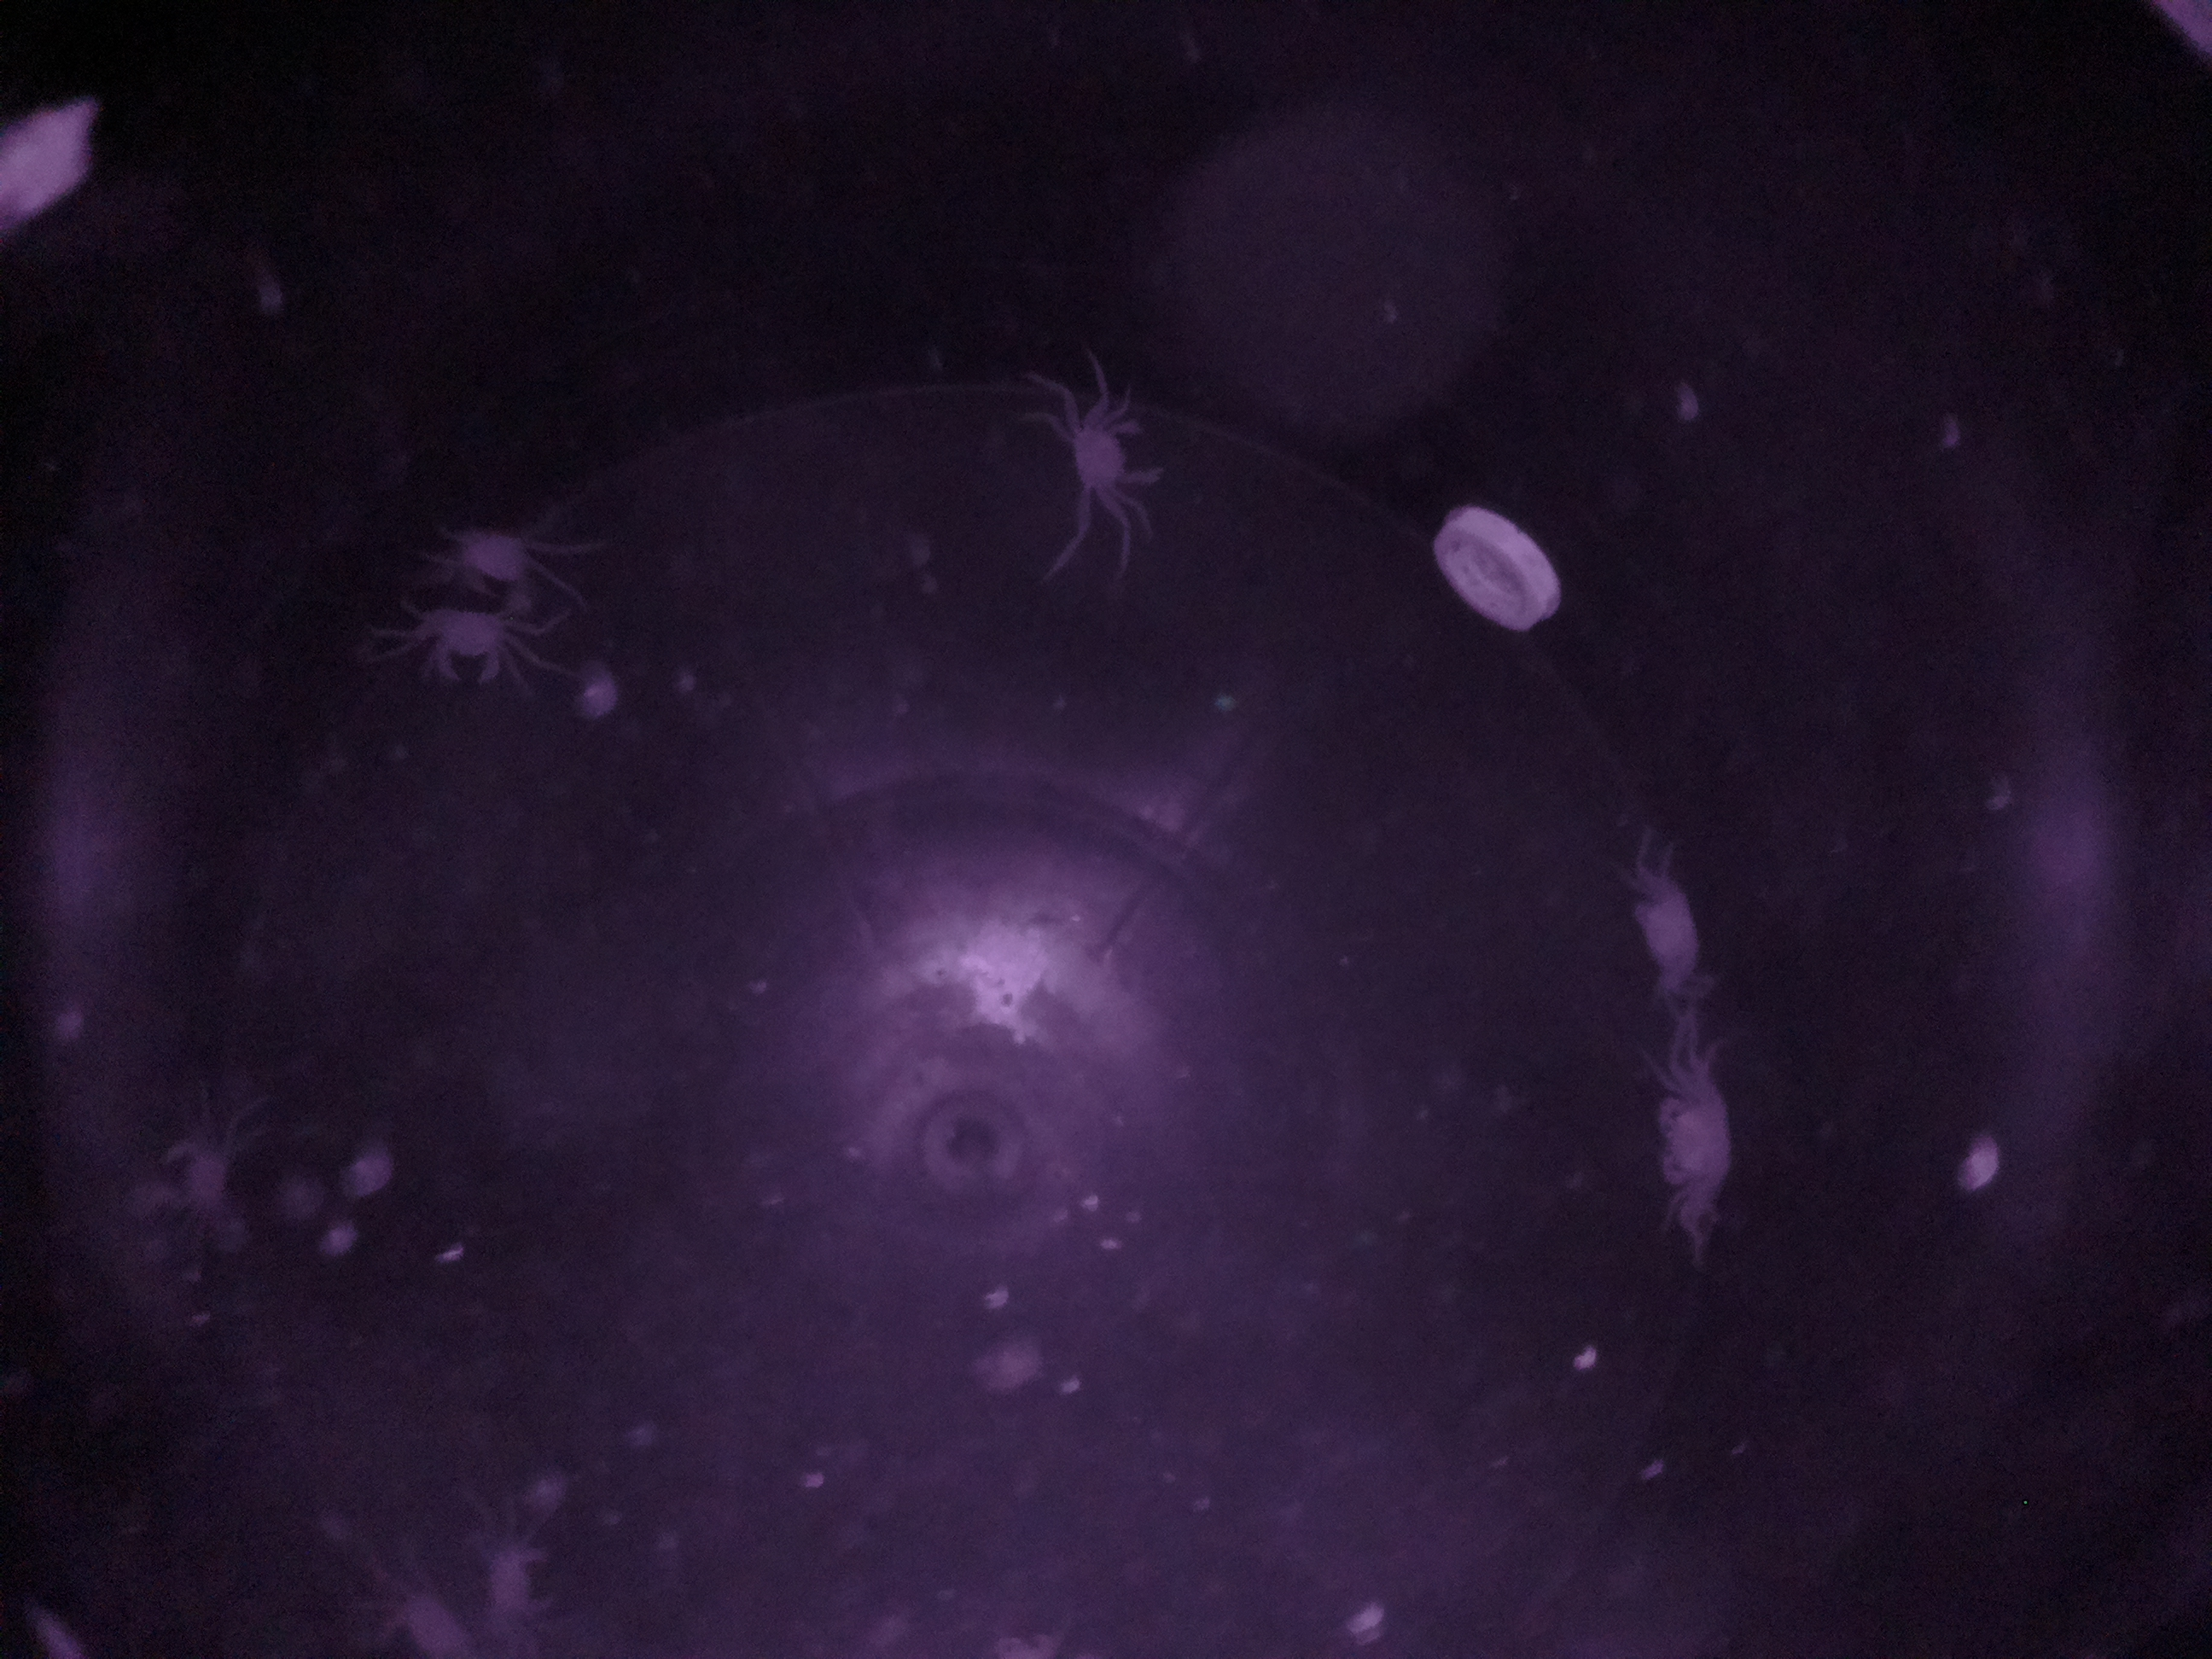Crab: (1055, 387, 1190, 530), (1641, 1066, 1756, 1208), (1615, 877, 1726, 1000), (418, 596, 519, 708), (446, 497, 554, 599)
